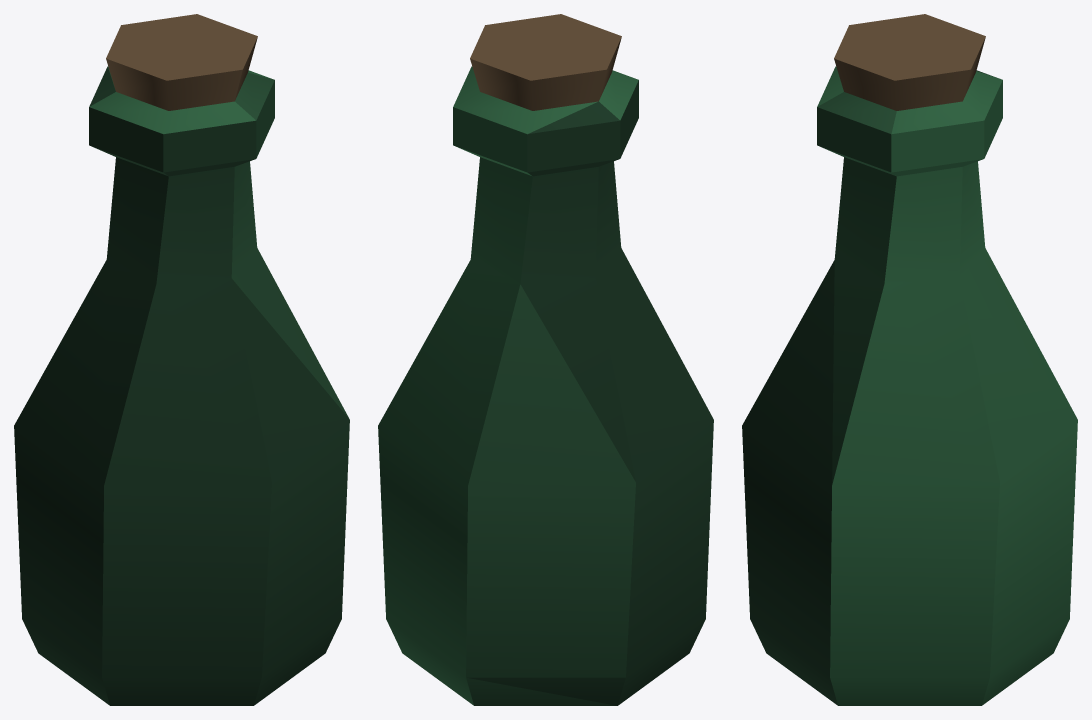
Rendered from botte.fbx.
3 views of the same model, side by side, from view 1: azimuth 30°, elevation 25°; view 2: azimuth 150°, elevation 25°; view 3: azimuth 270°, elevation 25° (orthographic).
Parts seen in each view (by area): view 1: bottle_1.004_0; view 2: bottle_1.004_0; view 3: bottle_1.004_0.
Part boxes in pixels (bbox=[...]): bottle_1.004_0: bbox=[14, 14, 349, 705]; bottle_1.004_0: bbox=[378, 14, 713, 705]; bottle_1.004_0: bbox=[742, 14, 1077, 705].
Bounding box in the file's own units: 146 × 327 × 165.
